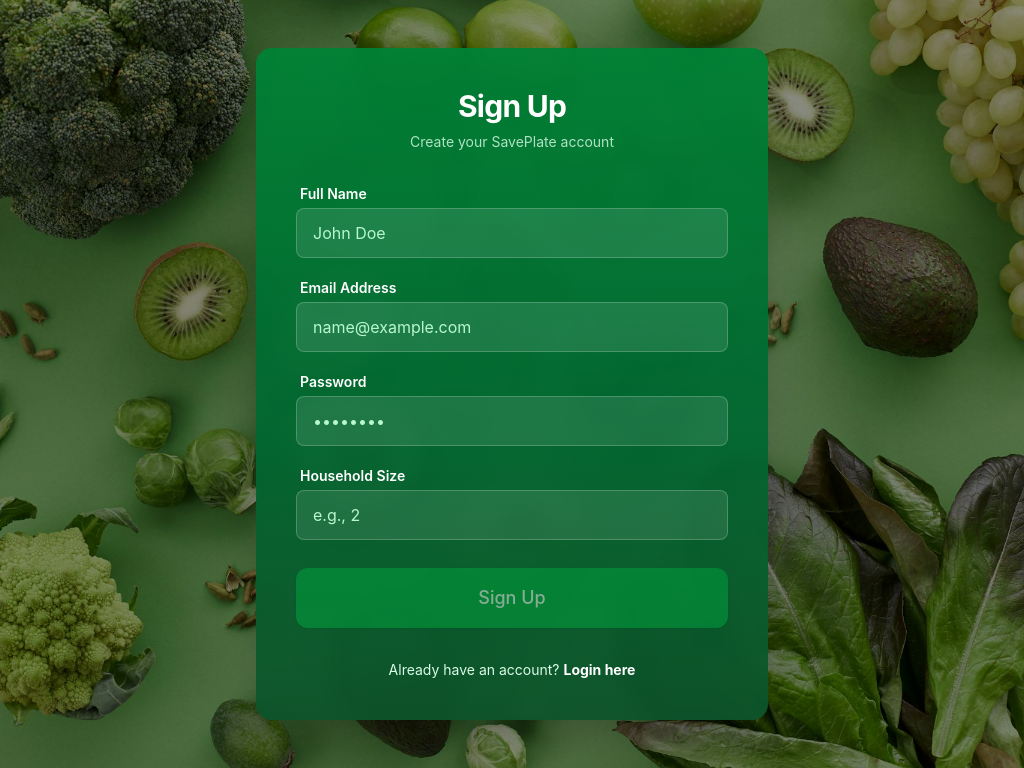
Test case: Sign Up Page E2E Tests › should reject non-Google emails
Type "Dummy User" into the field with id "fullName". click: (512, 233)
box: [296, 208, 728, 258]
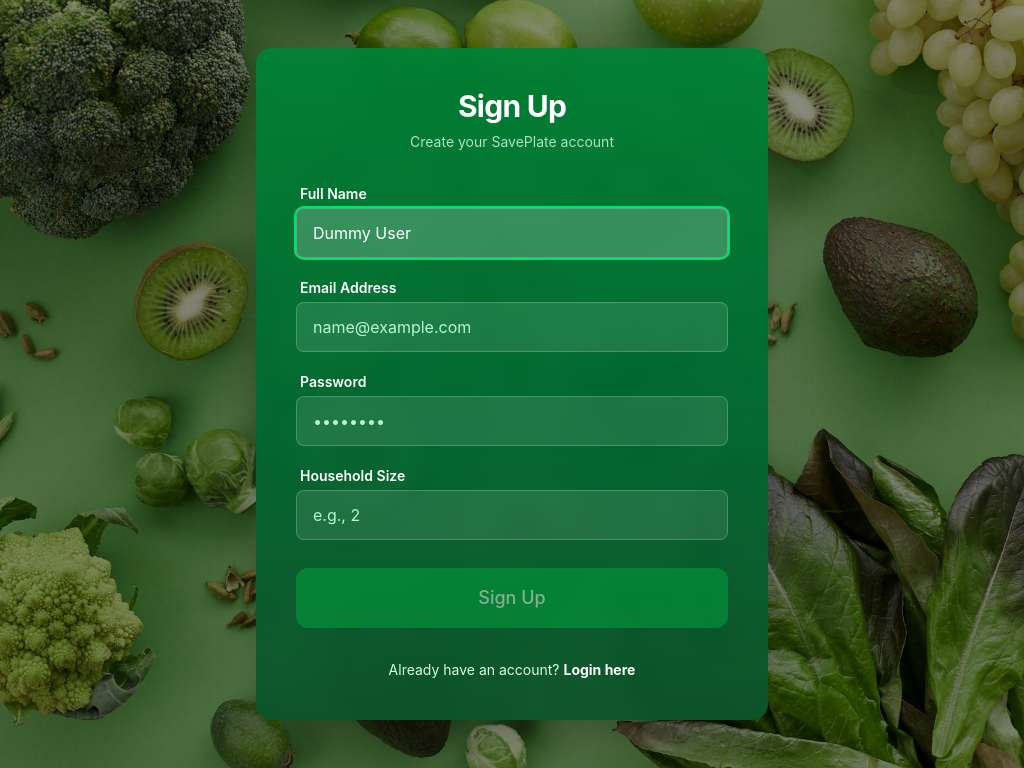
Type "testuser@yahoo.com" into the field with id "email". click: (512, 327)
box: [296, 302, 728, 352]
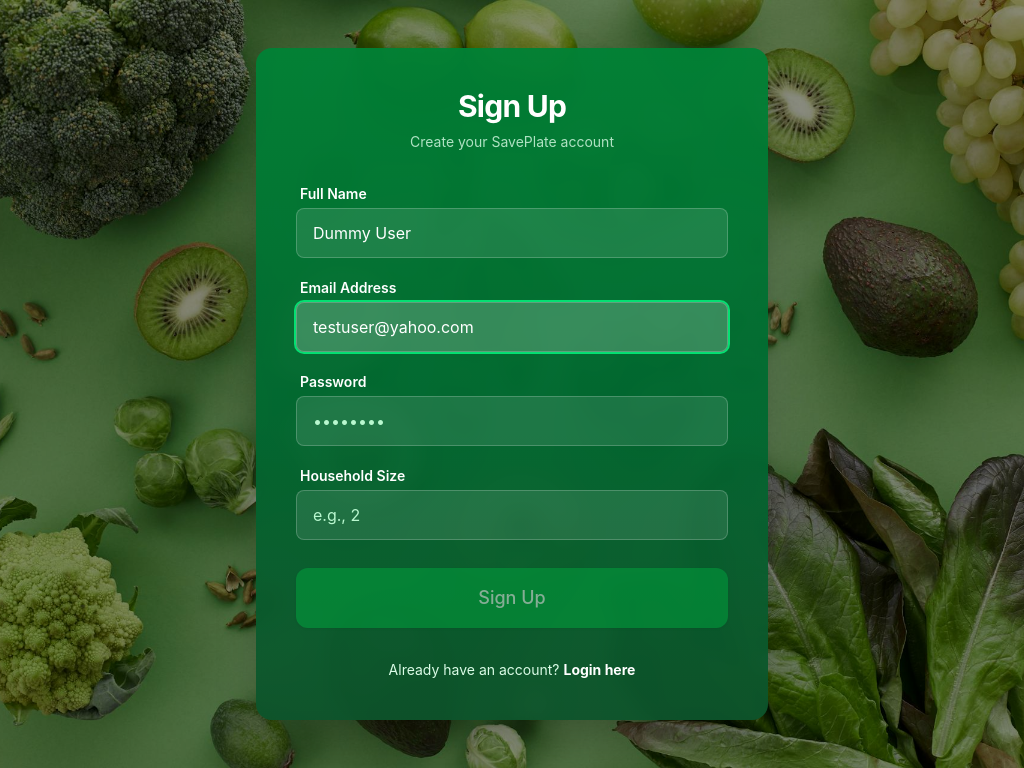
Type "dummy1234!" into the password field labelled "Password". click: (512, 421)
box: [296, 396, 728, 446]
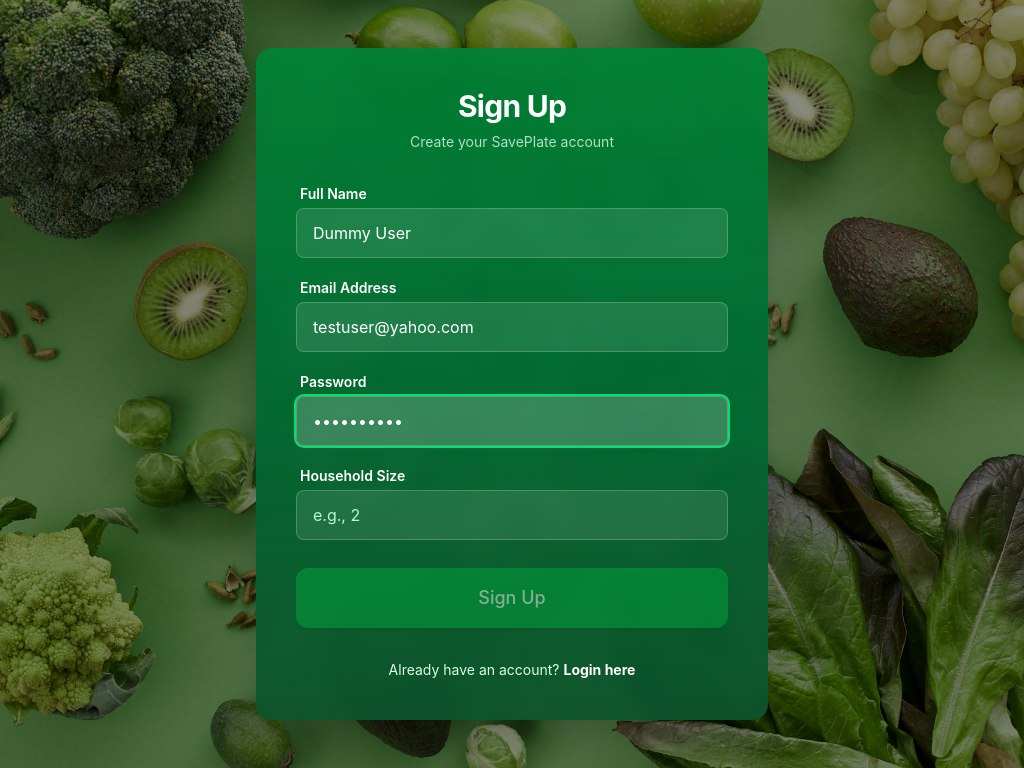
Type "2" into the number field with id "householdSize". click: (512, 515)
box: [296, 490, 728, 540]
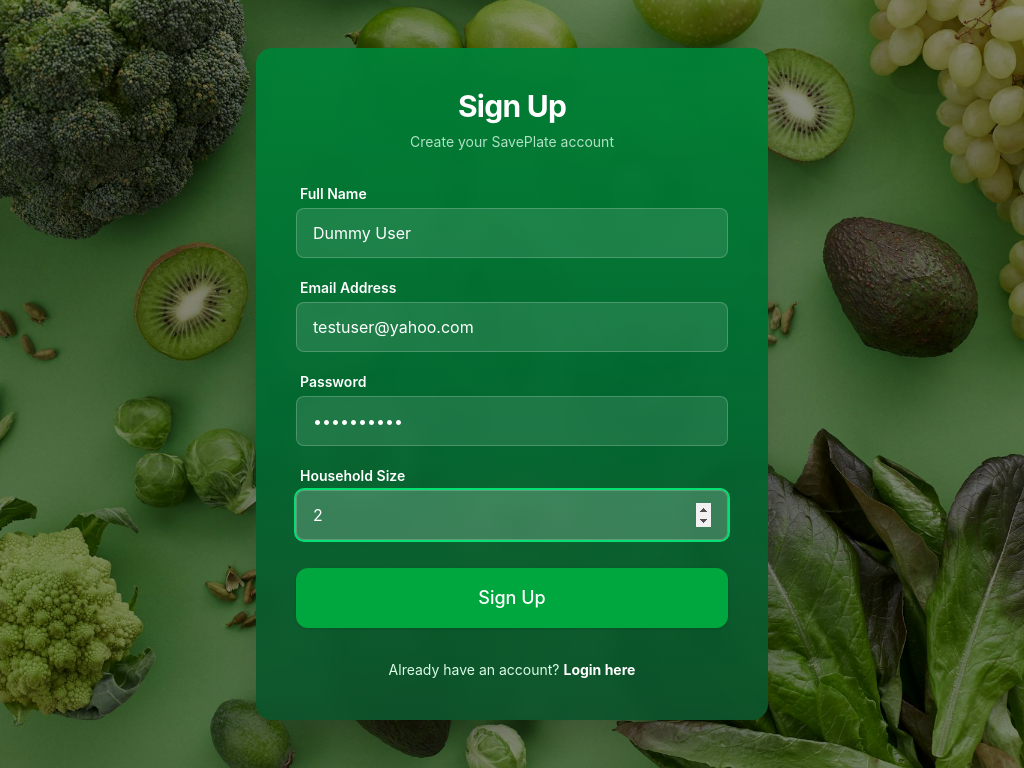
Expected: the submit button is enabled
Click the submit button. click: (512, 598)
box: [296, 568, 728, 628]
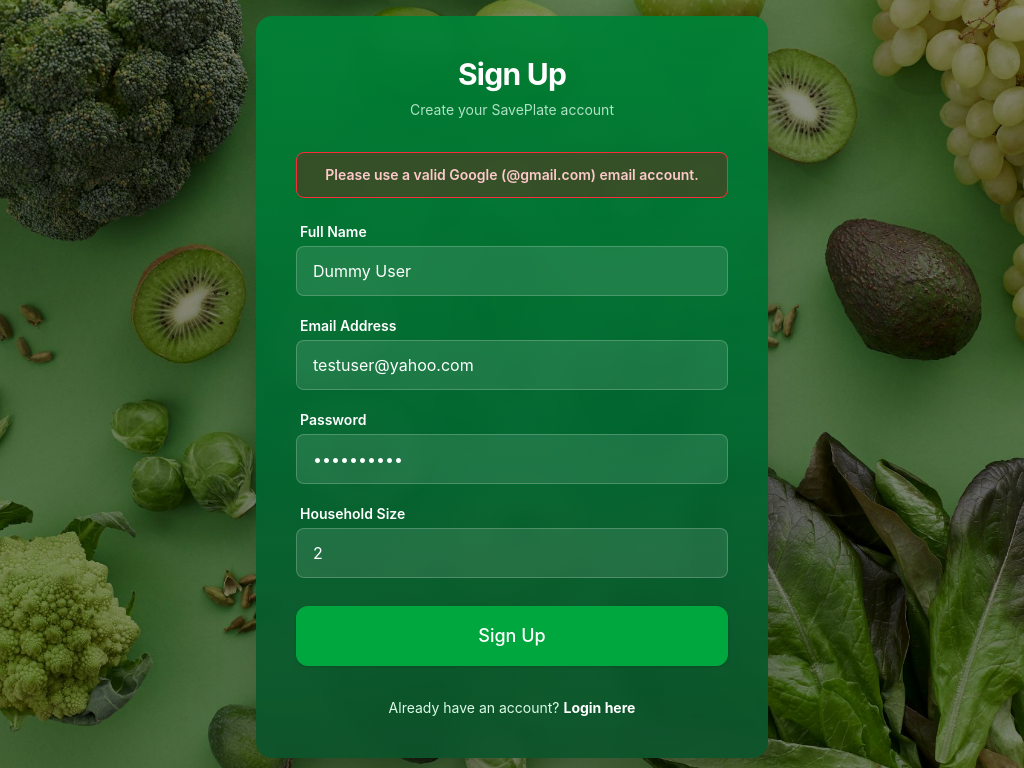
Expected: the heading "Sign Up" is shown, [458, 56, 566, 92]
Now the text "Please use a valid Google (@gmail.com) email account." is shown, box [296, 152, 728, 198]
